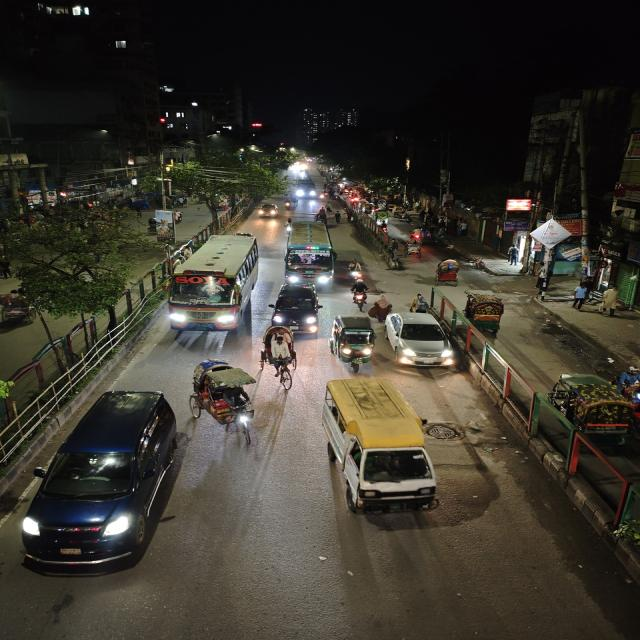bus: (165, 232, 262, 334), (282, 230, 337, 288), (294, 178, 317, 200)
car: (21, 386, 184, 582), (384, 310, 455, 373), (271, 283, 322, 333), (257, 202, 280, 219)
cng: (329, 313, 377, 371)
human_hauler: (308, 382, 452, 516)
motorcycle: (346, 254, 368, 284), (348, 278, 369, 306), (409, 290, 429, 314), (283, 217, 295, 233), (284, 200, 295, 212)
pedestrian: (600, 283, 622, 317), (570, 279, 590, 311), (315, 206, 328, 224), (345, 208, 358, 224), (334, 210, 342, 224)
rickshaw: (549, 370, 640, 449), (190, 357, 262, 443), (260, 323, 300, 391), (459, 290, 510, 339), (432, 257, 464, 286), (404, 232, 424, 258)
